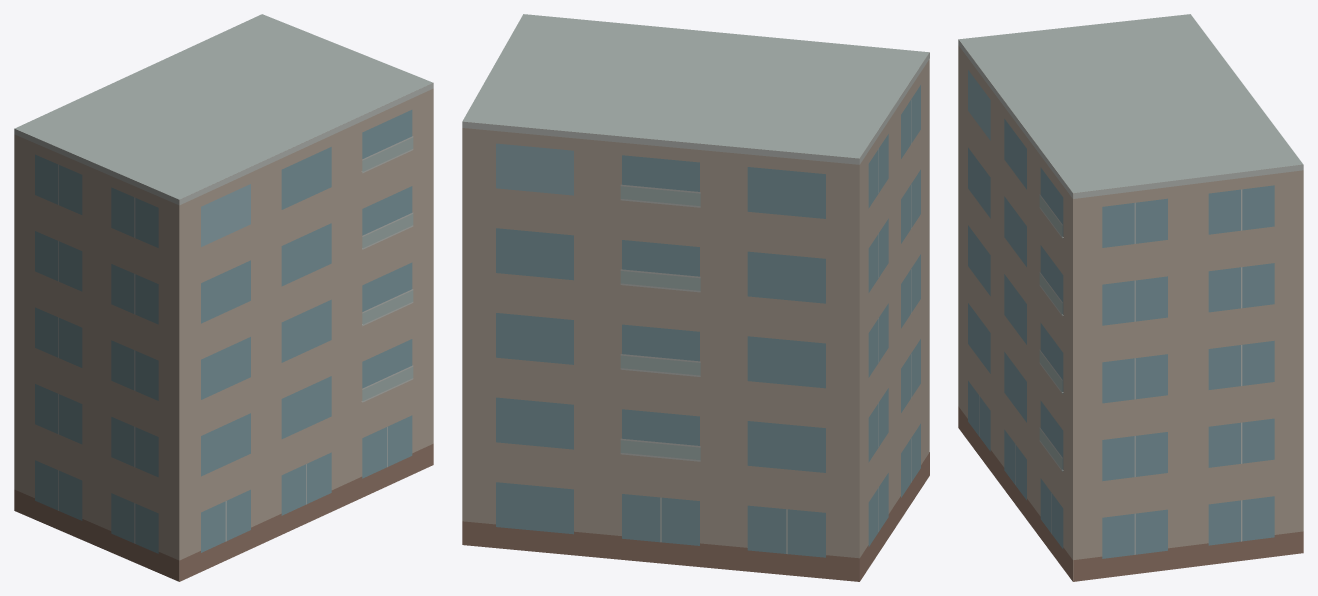
File: survey-upis-32769742.glb
3 renders of one model, left to right at view 1: azimuth 30°, elevation 25°; view 2: azimuth 150°, elevation 25°; view 3: azimuth 270°, elevation 25°, orthographic. The views are drawn at different scales.
Visible parts, largest first — view 1: survey-upis-32769742.tmp; view 2: survey-upis-32769742.tmp; view 3: survey-upis-32769742.tmp.
Boxes of the visible parts, x1,y1,x2,y2 form: survey-upis-32769742.tmp: (14,14,433,581); survey-upis-32769742.tmp: (462,14,929,581); survey-upis-32769742.tmp: (958,14,1303,581).
Bounding box in the file's own units: 16.24 × 16.4 × 13.21.
